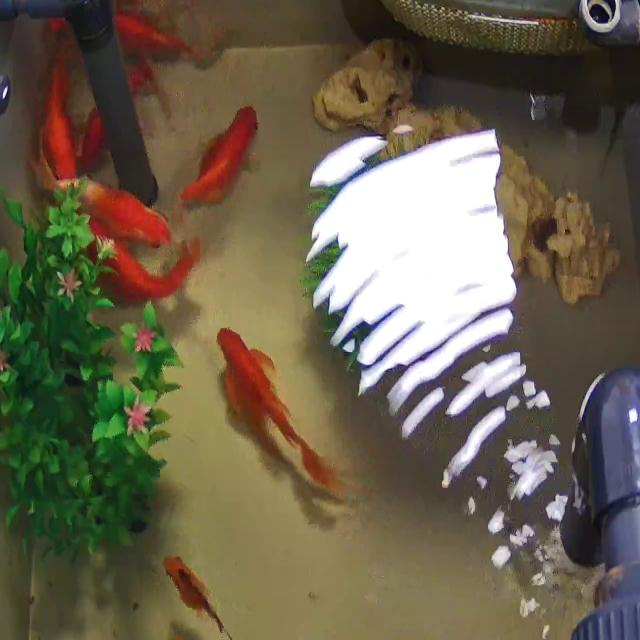fish: (208, 319, 351, 503), (183, 103, 291, 236), (25, 159, 182, 248), (41, 233, 203, 304), (153, 546, 257, 640), (96, 10, 232, 66), (34, 34, 84, 172)
